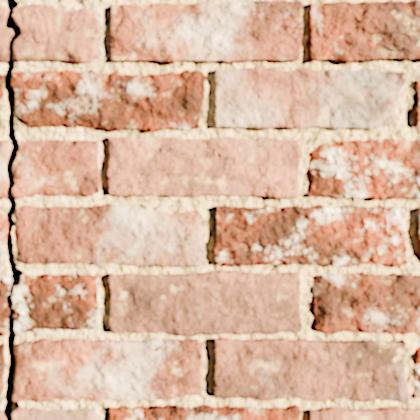brick: (108, 271, 301, 336), (212, 338, 409, 401), (13, 338, 201, 401), (214, 205, 406, 266), (110, 2, 302, 63), (16, 204, 204, 266), (107, 137, 298, 198), (12, 70, 204, 130), (214, 68, 403, 128), (306, 1, 419, 62), (307, 139, 419, 199), (312, 273, 419, 334), (109, 405, 299, 419), (308, 406, 419, 419), (273, 1, 301, 20), (413, 347, 419, 397), (413, 76, 419, 125), (0, 214, 5, 265), (0, 344, 4, 394), (416, 208, 419, 259), (0, 75, 2, 98)
broken_brick: (14, 2, 99, 63), (12, 272, 98, 332), (13, 139, 100, 198), (12, 406, 97, 419), (0, 5, 9, 63), (0, 275, 8, 337), (0, 139, 8, 198)
crack: (0, 0, 22, 419), (249, 0, 303, 43), (360, 283, 386, 333), (153, 341, 168, 351)
